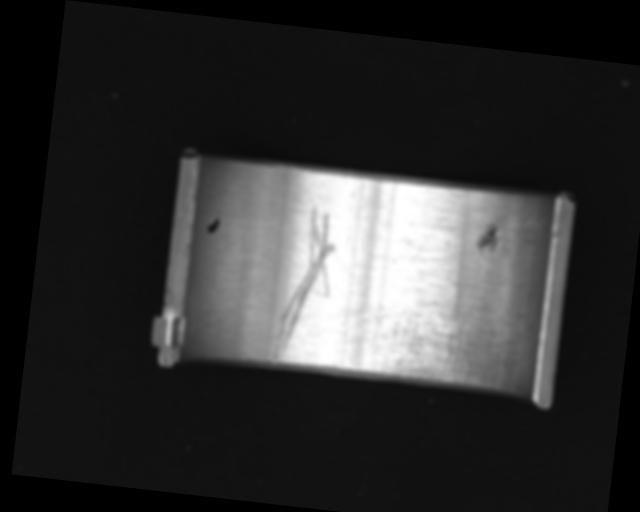blot: (205, 215, 222, 236)
bruise: (475, 221, 502, 255)
nick: (269, 202, 340, 369)
scratch: (337, 297, 484, 386)
